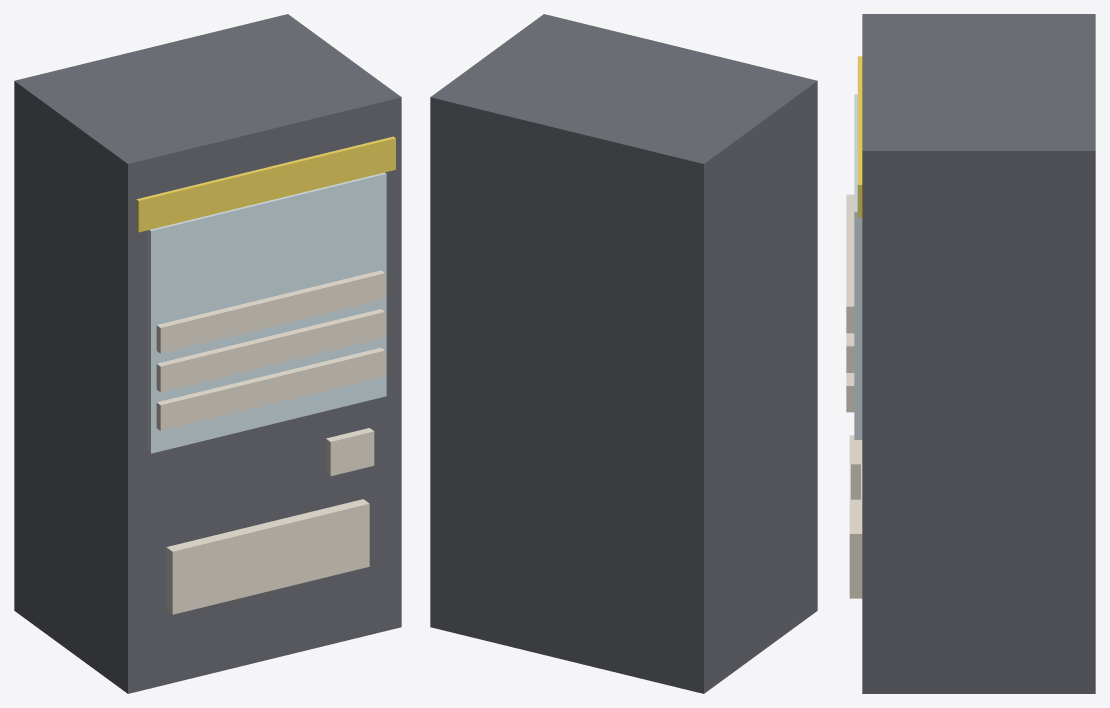
The model's file is prop-vending-coffee.glb.
3 views of the same model, side by side, from view 1: azimuth 30°, elevation 25°; view 2: azimuth 150°, elevation 25°; view 3: azimuth 270°, elevation 25° (orthographic). The views are drawn at different scales.
Visible parts, largest first — view 1: vending-body, vending-window, vending-shelves, vending-panel, vending-light; view 2: vending-body; view 3: vending-body, vending-window, vending-panel, vending-shelves, vending-light.
Boxes of the visible parts, x1,y1,x2,y2 form: vending-body: [14, 14, 401, 693]; vending-window: [147, 172, 386, 453]; vending-shelves: [156, 270, 384, 430]; vending-panel: [166, 428, 374, 614]; vending-light: [136, 136, 395, 232]; vending-body: [430, 14, 817, 693]; vending-body: [862, 14, 1095, 693]; vending-window: [854, 94, 862, 439]; vending-panel: [849, 435, 862, 598]; vending-shelves: [846, 194, 854, 412]; vending-light: [857, 56, 862, 217].
Bounding box in the file's own units: 1 × 1.85 × 0.77.
